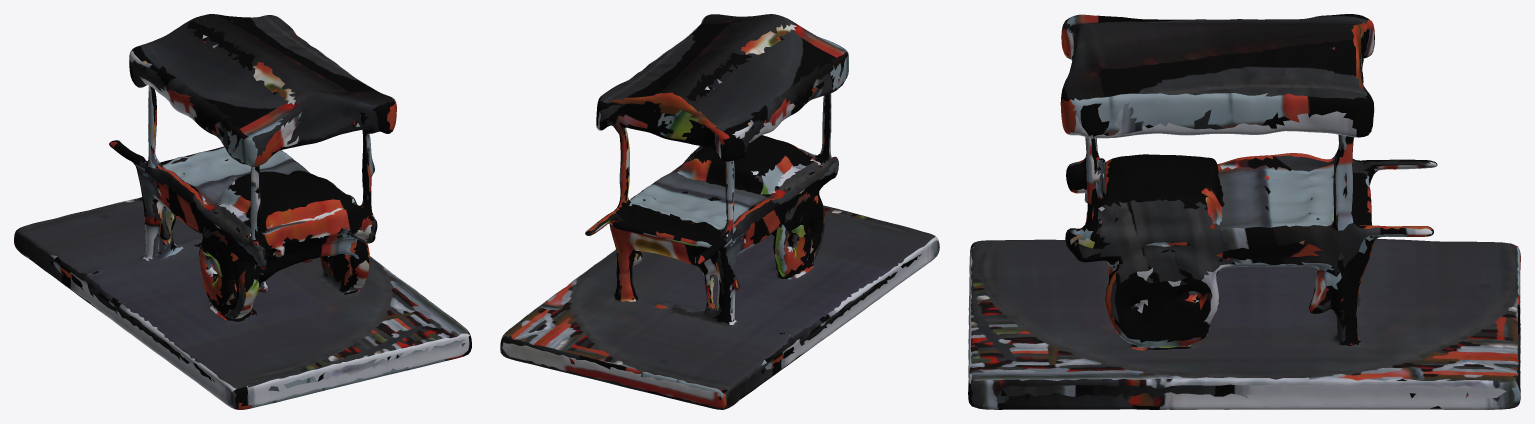
The model's file is modelds.fbx.
The picture shows the model from 3 angles, left to right: view 1: azimuth 30°, elevation 25°; view 2: azimuth 150°, elevation 25°; view 3: azimuth 270°, elevation 25°; orthographic projection. The views are drawn at different scales.
Visible parts, largest first — view 1: high_poly; view 2: high_poly; view 3: high_poly.
Boxes of the visible parts, box(x1,y1,x2,y2) form: high_poly: box(14, 14, 471, 409); high_poly: box(500, 14, 939, 409); high_poly: box(968, 14, 1520, 409).
Bounding box in the file's own units: 61.49 × 63.51 × 100.
